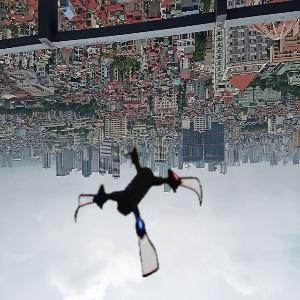drone: (73, 141, 211, 279)
